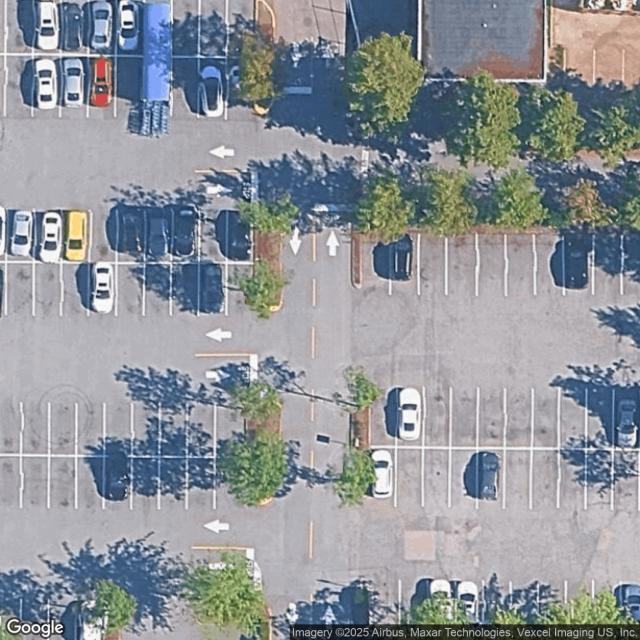car: (105, 446, 130, 502), (396, 386, 421, 442), (430, 579, 454, 636), (198, 66, 224, 118), (565, 237, 591, 288), (457, 580, 480, 635), (36, 1, 60, 52), (117, 0, 140, 53), (201, 262, 224, 314), (92, 264, 115, 314), (174, 206, 196, 258), (618, 393, 638, 450), (64, 2, 86, 53), (478, 451, 500, 502), (90, 57, 112, 107), (39, 212, 61, 262), (229, 209, 251, 259), (67, 211, 88, 263), (371, 450, 393, 499), (392, 234, 414, 283), (11, 212, 34, 258), (80, 597, 105, 639), (36, 59, 57, 108), (64, 57, 85, 106), (146, 212, 168, 257), (91, 2, 111, 50), (122, 210, 142, 258), (622, 582, 640, 635), (229, 62, 249, 102)
lot_boundary: (360, 229, 639, 639)
objects: (143, 0, 172, 135), (105, 580, 120, 639)
stall: (400, 581, 430, 639), (481, 582, 511, 640), (75, 582, 105, 640), (6, 56, 34, 117), (448, 233, 476, 294), (477, 233, 505, 294), (586, 389, 614, 450), (532, 387, 560, 448), (504, 451, 532, 512), (558, 449, 586, 510), (370, 447, 398, 508), (537, 582, 566, 640), (565, 582, 594, 640), (593, 582, 622, 640), (370, 582, 399, 640), (21, 582, 50, 640), (392, 232, 420, 292), (530, 450, 558, 510), (88, 56, 115, 118), (115, 56, 142, 118), (33, 56, 60, 118), (419, 232, 446, 294), (227, 0, 256, 57), (200, 58, 227, 119), (171, 59, 198, 120), (61, 56, 88, 117), (225, 58, 252, 119), (536, 233, 563, 294), (595, 233, 622, 294), (478, 387, 505, 448), (451, 387, 478, 448), (424, 387, 451, 448), (370, 386, 397, 447), (477, 450, 504, 511), (613, 450, 640, 511), (423, 447, 450, 508), (396, 447, 423, 508), (430, 582, 458, 640), (364, 232, 391, 292), (586, 450, 613, 510), (450, 450, 477, 510), (215, 404, 245, 458), (199, 1, 228, 56), (508, 233, 534, 294), (566, 233, 592, 294), (398, 387, 424, 448), (506, 387, 532, 448), (116, 0, 144, 56), (511, 582, 538, 640), (560, 388, 586, 448), (615, 388, 640, 450), (62, 0, 90, 55), (172, 1, 200, 56), (33, 0, 61, 55), (6, 0, 34, 54), (89, 0, 117, 54), (50, 582, 76, 640), (216, 459, 246, 508), (77, 404, 105, 456), (457, 582, 482, 640), (62, 262, 88, 314), (119, 211, 145, 263), (147, 211, 173, 263), (8, 209, 34, 261), (172, 264, 198, 316), (145, 263, 171, 315), (90, 263, 116, 315), (50, 403, 76, 455), (227, 264, 253, 316), (106, 404, 132, 456), (91, 211, 117, 262), (174, 211, 200, 262), (133, 457, 159, 508), (133, 404, 159, 455), (188, 405, 214, 456), (161, 405, 187, 456), (36, 262, 61, 314), (8, 263, 33, 315), (202, 211, 227, 263), (65, 210, 90, 262), (36, 210, 61, 262), (51, 456, 76, 508), (23, 403, 48, 455), (189, 457, 214, 509), (161, 457, 186, 509), (227, 211, 252, 262), (201, 265, 226, 316), (118, 264, 143, 315), (23, 457, 48, 508), (106, 458, 131, 509), (79, 457, 104, 508), (0, 402, 22, 455), (0, 455, 21, 508), (622, 582, 639, 638)
